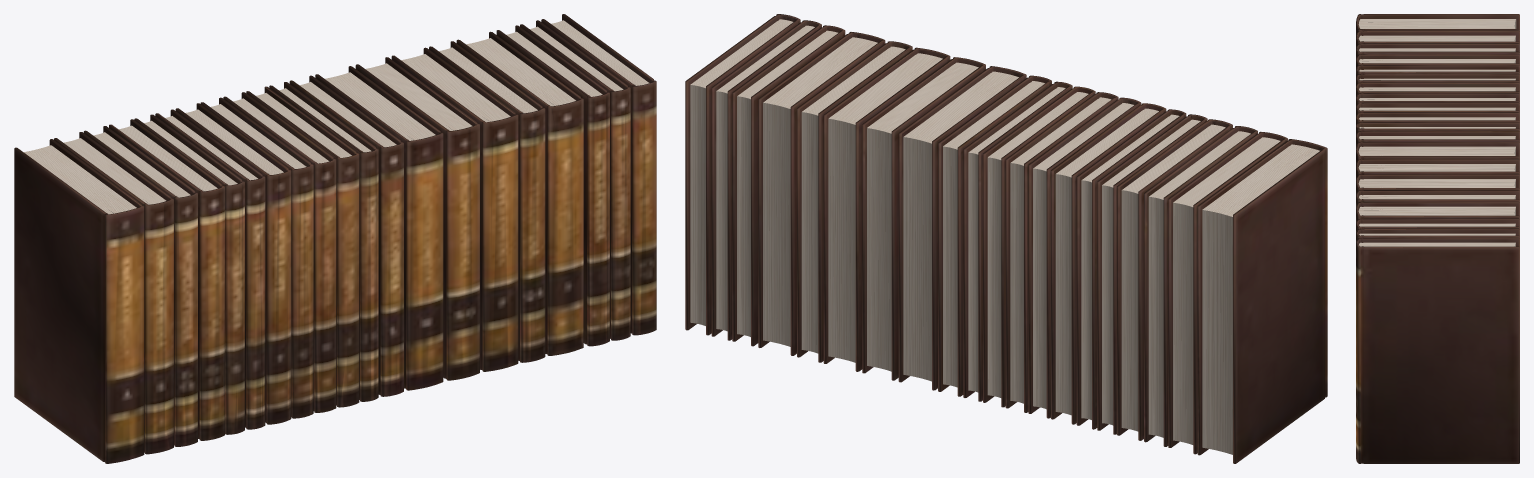
Rendered from book_encyclopedia_set_01.glb.
The picture shows the model from 3 angles, left to right: view 1: azimuth 30°, elevation 25°; view 2: azimuth 150°, elevation 25°; view 3: azimuth 270°, elevation 25°; orthographic projection. The views are drawn at different scales.
Parts seen in each view (by area): view 1: book_encyclopedia_set_01_book01, book_encyclopedia_set_01_book13, book_encyclopedia_set_01_book15, book_encyclopedia_set_01_book17, book_encyclopedia_set_01_book14, book_encyclopedia_set_01_book02, book_encyclopedia_set_01_book16, book_encyclopedia_set_01_book04, book_encyclopedia_set_01_book18, book_encyclopedia_set_01_book20, book_encyclopedia_set_01_book07, book_encyclopedia_set_01_book12 (+8 smaller); view 2: book_encyclopedia_set_01_book01, book_encyclopedia_set_01_book13, book_encyclopedia_set_01_book15, book_encyclopedia_set_01_book17, book_encyclopedia_set_01_book14, book_encyclopedia_set_01_book02, book_encyclopedia_set_01_book04, book_encyclopedia_set_01_book16, book_encyclopedia_set_01_book18, book_encyclopedia_set_01_book20, book_encyclopedia_set_01_book07, book_encyclopedia_set_01_book12 (+8 smaller); view 3: book_encyclopedia_set_01_book20, book_encyclopedia_set_01_book13, book_encyclopedia_set_01_book01, book_encyclopedia_set_01_book17, book_encyclopedia_set_01_book15, book_encyclopedia_set_01_book14, book_encyclopedia_set_01_book02, book_encyclopedia_set_01_book16, book_encyclopedia_set_01_book03, book_encyclopedia_set_01_book04, book_encyclopedia_set_01_book12, book_encyclopedia_set_01_book07 (+8 smaller).
Part boxes in pixels (x1,y1,x2,y2): book_encyclopedia_set_01_book01: (14,139,144,463); book_encyclopedia_set_01_book13: (315,66,443,390); book_encyclopedia_set_01_book15: (391,47,518,371); book_encyclopedia_set_01_book17: (456,31,583,355); book_encyclopedia_set_01_book14: (355,57,479,380); book_encyclopedia_set_01_book02: (54,132,173,454); book_encyclopedia_set_01_book16: (429,41,545,362); book_encyclopedia_set_01_book04: (109,119,224,440); book_encyclopedia_set_01_book18: (496,25,609,346); book_encyclopedia_set_01_book20: (541,14,656,335); book_encyclopedia_set_01_book07: (175,103,291,424); book_encyclopedia_set_01_book12: (289,75,403,396); book_encyclopedia_set_01_book01: (1197,139,1327,463); book_encyclopedia_set_01_book13: (898,66,1026,390); book_encyclopedia_set_01_book15: (823,47,950,371); book_encyclopedia_set_01_book17: (758,32,885,355); book_encyclopedia_set_01_book14: (862,57,985,380); book_encyclopedia_set_01_book02: (1168,131,1287,454); book_encyclopedia_set_01_book04: (1117,119,1232,440); book_encyclopedia_set_01_book16: (797,41,912,362); book_encyclopedia_set_01_book18: (732,25,845,346); book_encyclopedia_set_01_book20: (685,14,800,335); book_encyclopedia_set_01_book07: (1051,103,1166,424); book_encyclopedia_set_01_book12: (938,75,1051,396); book_encyclopedia_set_01_book20: (1356,238,1519,463); book_encyclopedia_set_01_book13: (1356,142,1519,165); book_encyclopedia_set_01_book01: (1356,14,1519,35); book_encyclopedia_set_01_book17: (1356,202,1519,222); book_encyclopedia_set_01_book15: (1356,174,1519,195); book_encyclopedia_set_01_book14: (1356,159,1519,181); book_encyclopedia_set_01_book02: (1356,30,1519,48); book_encyclopedia_set_01_book16: (1356,190,1519,208); book_encyclopedia_set_01_book03: (1356,43,1519,59); book_encyclopedia_set_01_book04: (1356,54,1519,77); book_encyclopedia_set_01_book12: (1356,131,1519,149); book_encyclopedia_set_01_book07: (1356,82,1519,96).
Size of the model in its own units: 0.5513 by 0.2374 by 0.1631.
Materials: 2 (2 with a texture image).
